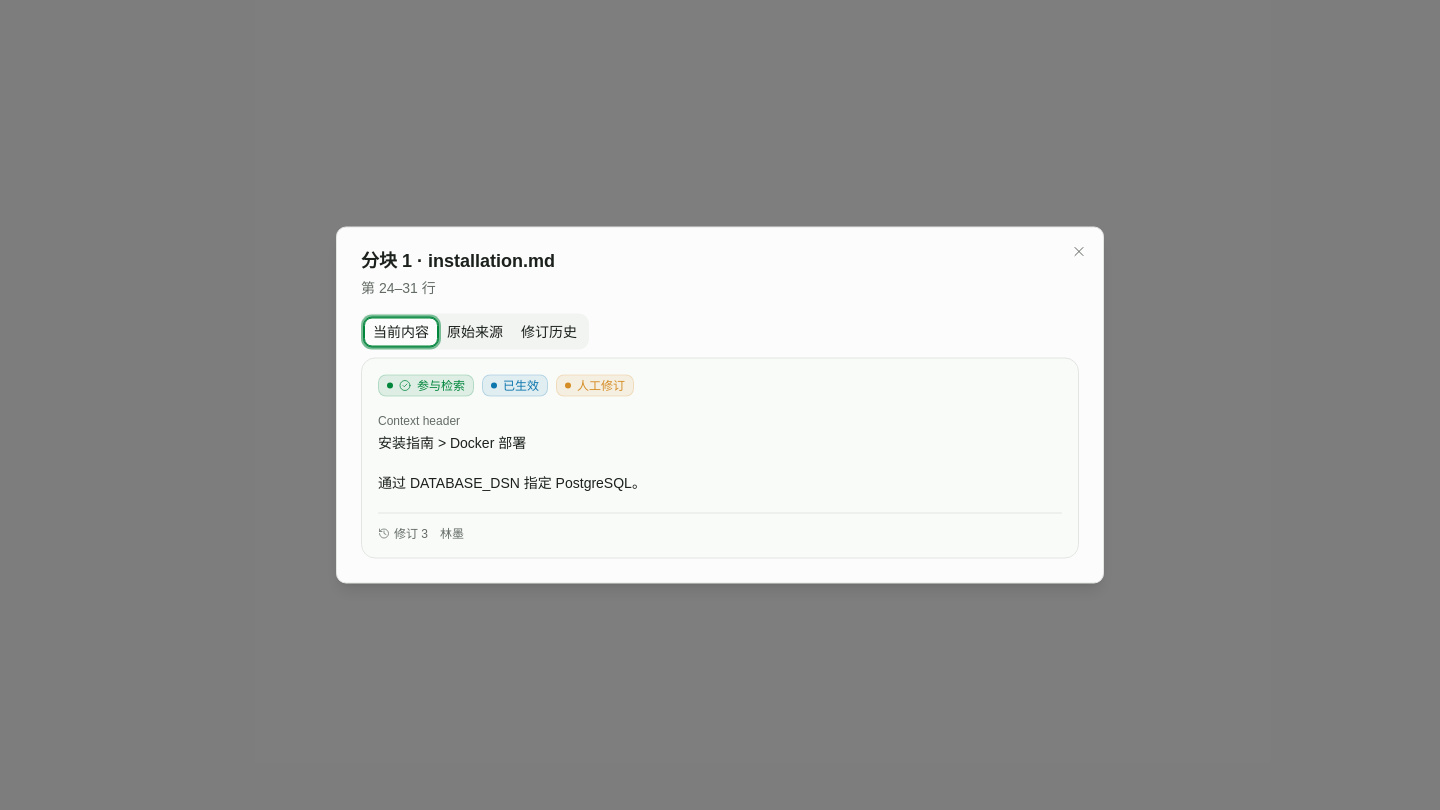
ChunkDetailDialog › renders current content / source / history tabs with readable fields
Expected: the text "第 24–31 行" is shown, [361,280,436,296]
Expected: the text "安装指南 > Docker 部署" is shown, [378,434,526,450]
# 原始来源 tab
Step 1. Click the tab "原始来源" → (475, 332), box [438,317,512,346]
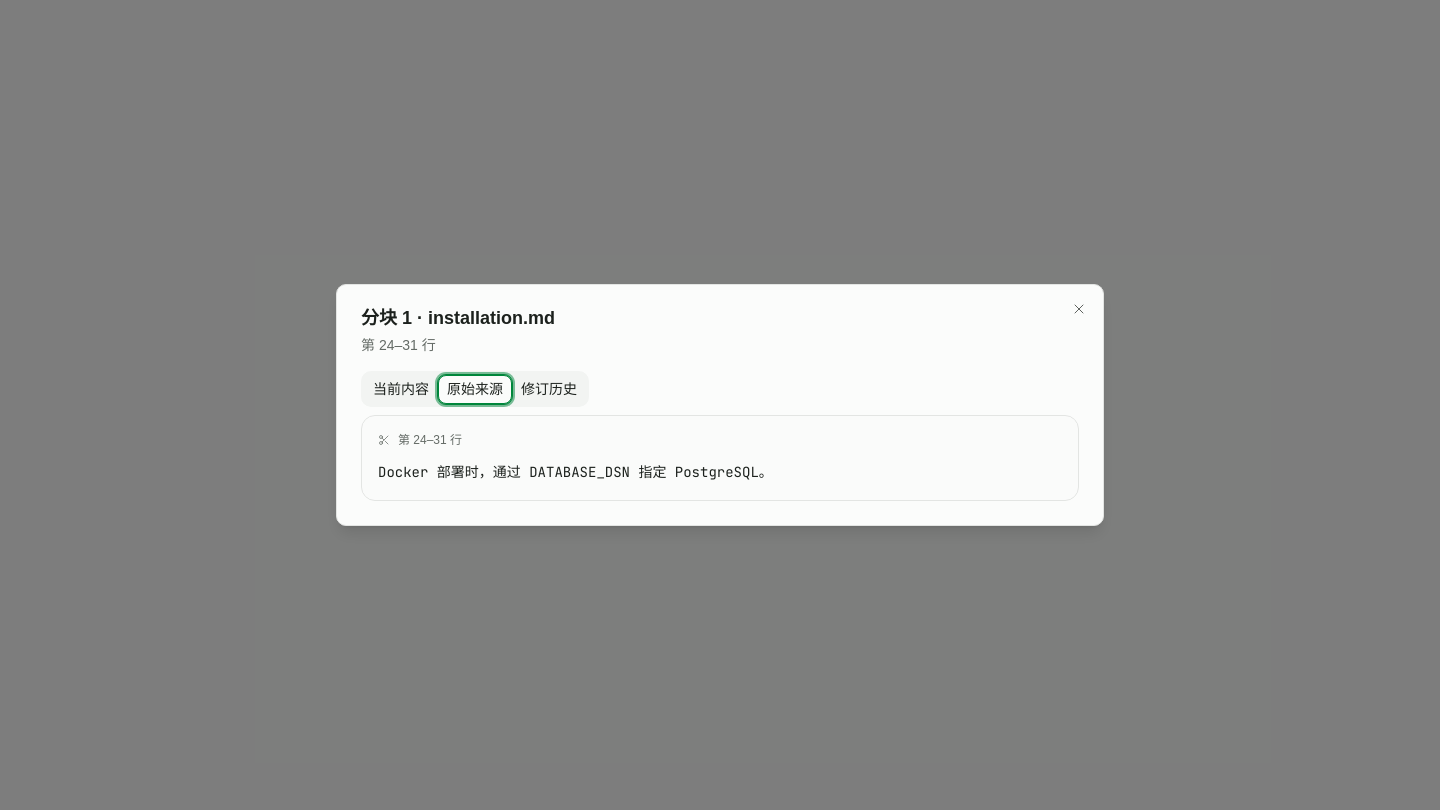
Expected: the text "Docker 部署时，通过 DATABASE_DSN 指定 PostgreSQL。" is shown, [378,463,773,481]
# 修订历史 tab：按修订号倒序，最新在前
Step 2. Click the tab "修订历史" → (549, 389), box [512,374,586,404]
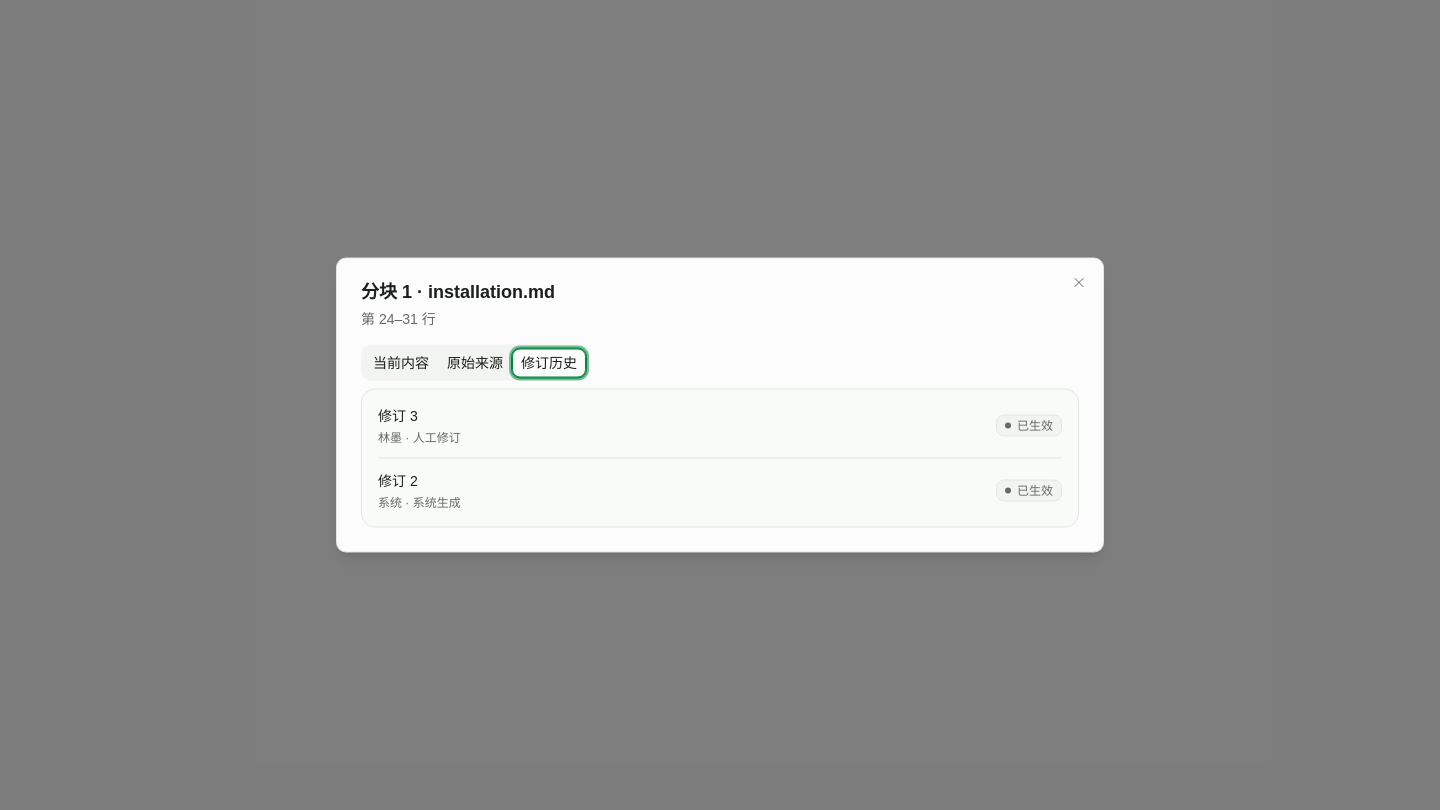
Expected: the text "修订 3" is shown, [378,408,418,424]
Expected: the text "修订 2" is shown, [378,472,418,488]
